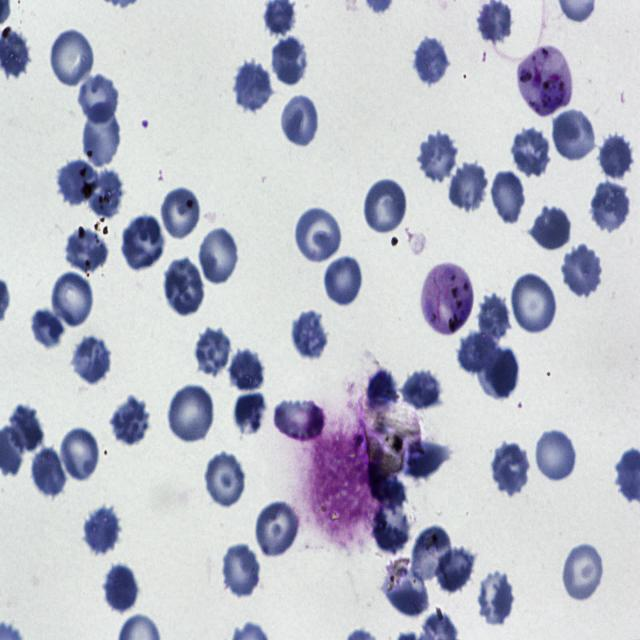red blood cell: (510, 270, 559, 336), (167, 382, 217, 444), (48, 27, 96, 89), (294, 205, 343, 264), (254, 499, 302, 558), (81, 103, 123, 170), (53, 156, 104, 209), (363, 176, 408, 236), (561, 541, 605, 602), (379, 566, 428, 620), (159, 184, 204, 242), (477, 341, 520, 401), (121, 215, 168, 269), (198, 226, 240, 286), (51, 272, 95, 329), (204, 450, 247, 508), (414, 130, 460, 184), (552, 109, 597, 164), (561, 242, 604, 299), (220, 541, 262, 599), (534, 427, 578, 482), (411, 525, 453, 582), (162, 260, 205, 315), (587, 179, 628, 236), (76, 72, 120, 125), (62, 227, 110, 275), (60, 426, 100, 483), (448, 160, 490, 213), (272, 401, 325, 442), (398, 365, 446, 410), (109, 396, 152, 446), (192, 326, 234, 377), (492, 441, 530, 497), (234, 61, 274, 114), (432, 543, 476, 591), (281, 94, 320, 148), (70, 334, 112, 384), (511, 127, 552, 178), (478, 569, 514, 627), (324, 256, 364, 307), (490, 169, 526, 225), (404, 440, 454, 480), (410, 33, 446, 88), (83, 505, 121, 557), (530, 205, 572, 252), (458, 331, 500, 377), (225, 346, 265, 394), (271, 38, 310, 87), (476, 292, 512, 343), (598, 131, 634, 180), (104, 565, 139, 615), (84, 173, 126, 214), (31, 448, 66, 496), (372, 510, 410, 554), (8, 404, 44, 450), (292, 312, 328, 358), (232, 391, 266, 435), (364, 366, 398, 409), (31, 308, 64, 349)
trophozoite: (517, 45, 572, 117), (422, 260, 473, 335)
